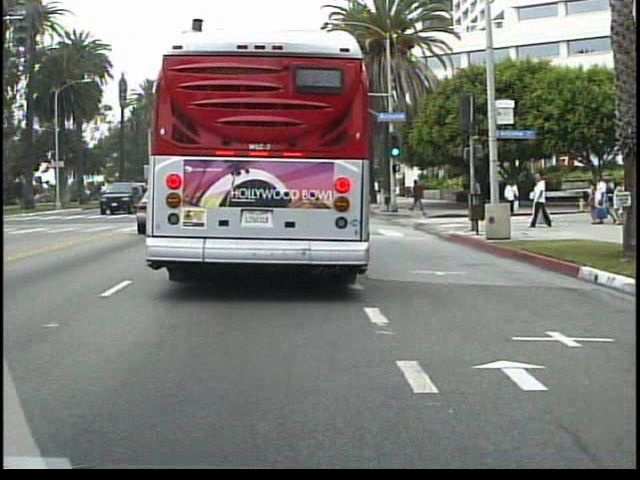person: (531, 168, 553, 228), (410, 177, 430, 217), (470, 173, 487, 216), (503, 177, 524, 204)
